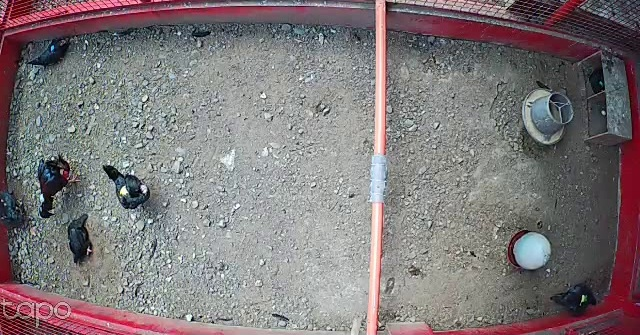Chicken: (101, 157, 152, 213), (548, 278, 600, 320), (26, 36, 72, 73), (65, 211, 98, 262)
Rooster: (35, 150, 86, 226)
Saddle_Color_Blue: (51, 45, 55, 53)
Saddle_Color_Yellow: (120, 184, 132, 196)
Saddle_Color_YellowGreen: (581, 295, 588, 305)
